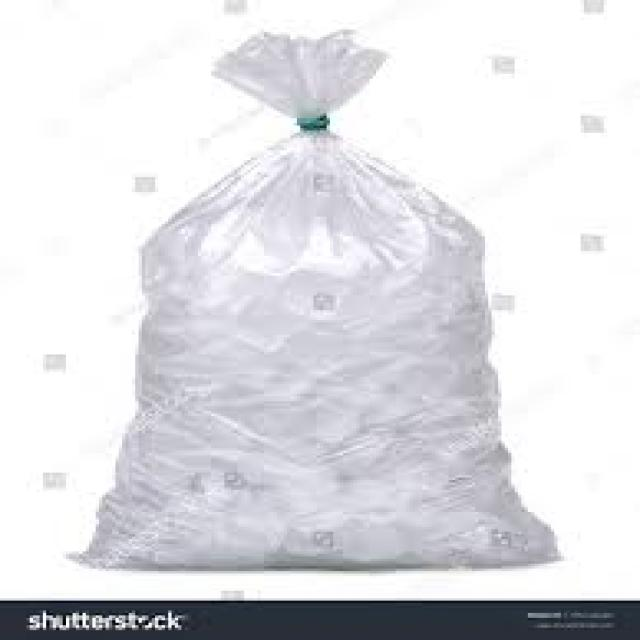plastic: (63, 30, 554, 569)
